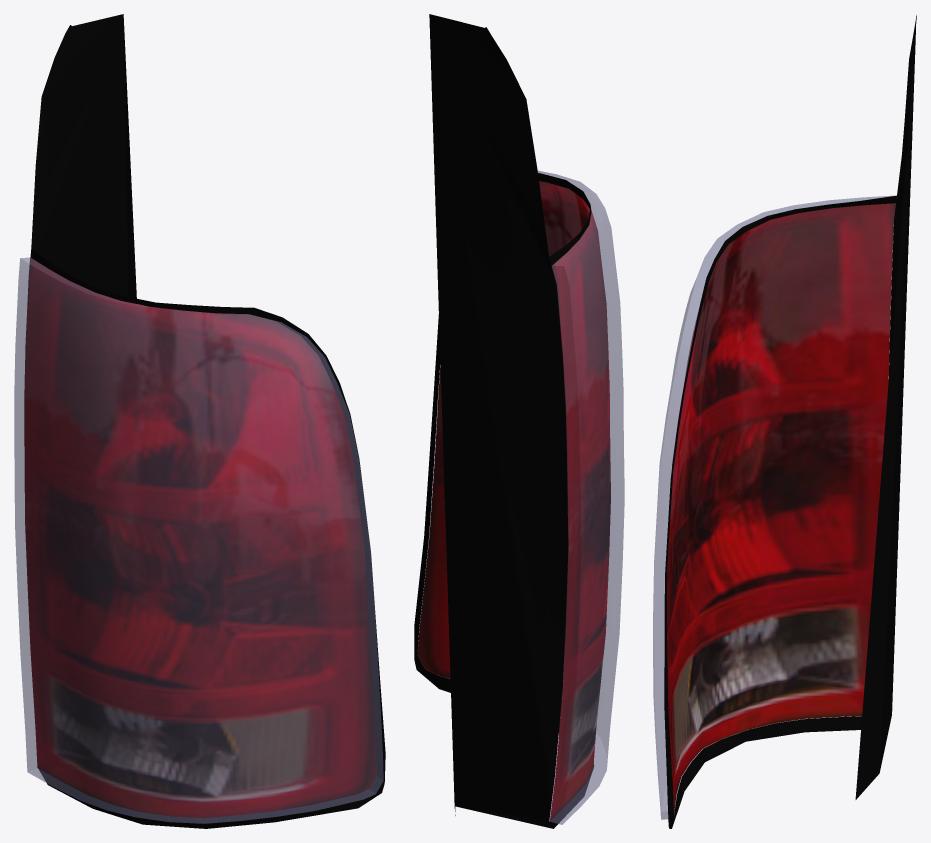
3 renders of one model, left to right at view 1: azimuth 30°, elevation 25°; view 2: azimuth 150°, elevation 25°; view 3: azimuth 270°, elevation 25°, orthographic. The views are drawn at different scales.
Visible parts, largest first — view 1: N826_541C_R_N826_541C_R_2_DTaSI, N826_541C_R_1_N_N826_541C_R, N826_541C_R_N826_541C_R_3_D; view 2: N826_541C_R_N826_541C_R_3_D, N826_541C_R_N826_541C_R_2_DTaSI, N826_541C_R_1_N_N826_541C_R; view 3: N826_541C_R_1_N_N826_541C_R, N826_541C_R_N826_541C_R_3_D, N826_541C_R_N826_541C_R_2_DTaSI.
Part boxes in pixels (box(x1,y1,x2,y2)): N826_541C_R_N826_541C_R_2_DTaSI: box(14, 257, 383, 823); N826_541C_R_1_N_N826_541C_R: box(24, 257, 376, 817); N826_541C_R_N826_541C_R_3_D: box(30, 14, 385, 828); N826_541C_R_N826_541C_R_3_D: box(414, 14, 593, 828); N826_541C_R_N826_541C_R_2_DTaSI: box(429, 170, 624, 824); N826_541C_R_1_N_N826_541C_R: box(417, 181, 610, 820); N826_541C_R_1_N_N826_541C_R: box(667, 203, 895, 814); N826_541C_R_N826_541C_R_3_D: box(664, 15, 916, 828); N826_541C_R_N826_541C_R_2_DTaSI: box(653, 195, 895, 819).
Bounding box in the file's own units: 16.36 × 45.31 × 14.3.
